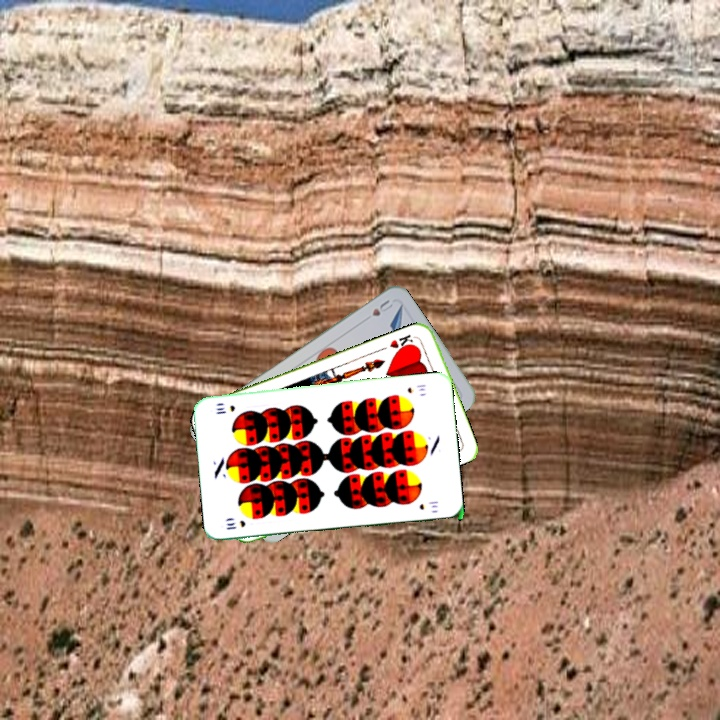HK: (386, 330, 417, 355)
HU: (368, 295, 396, 319)
S10: (403, 380, 429, 396), (222, 516, 248, 532)
